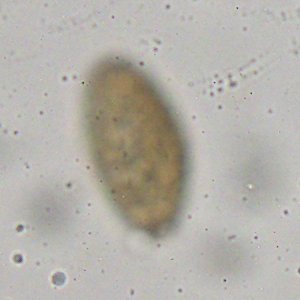Fasciola_hepatica_egg: (84, 53, 185, 240)
